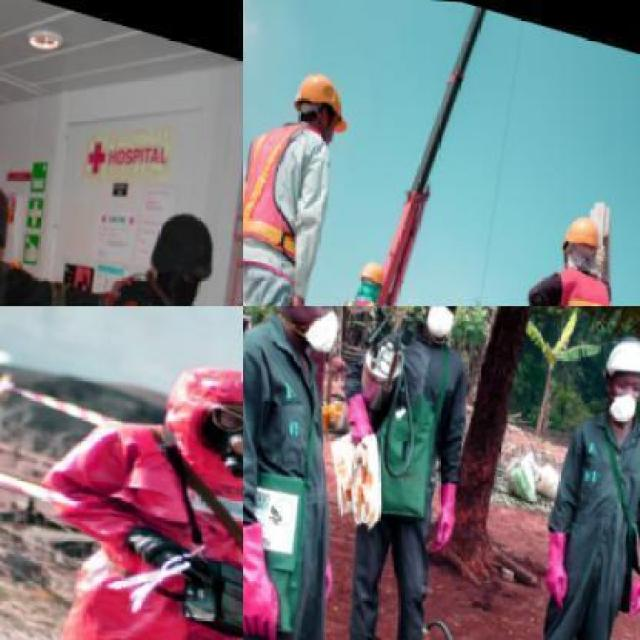vest: (0, 392, 242, 638), (243, 96, 340, 276), (521, 249, 634, 305), (317, 283, 388, 305)
